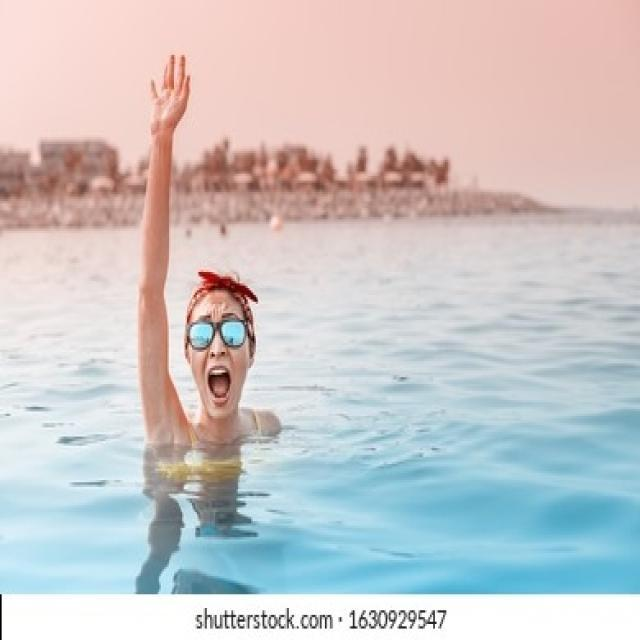Out of Water: (133, 48, 283, 452)
